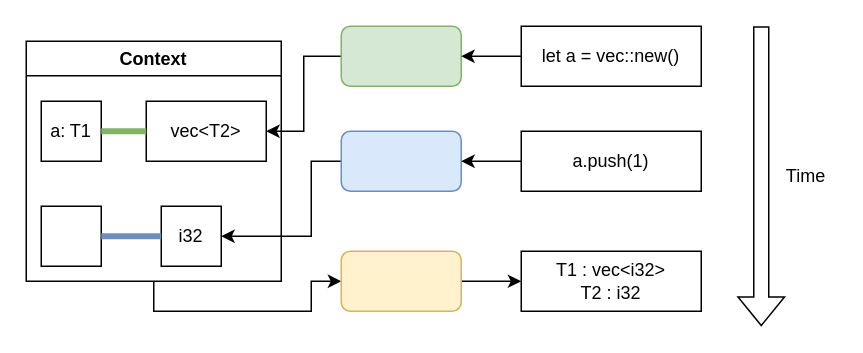
This 863x353 diagram has some shape labels left out. The centre of each missing label's shape, as x and y in pixels:
eq: the point at 400,160
fully_resolve: the point at 400,280
sub: the point at 400,55
T2: the point at 70,235
